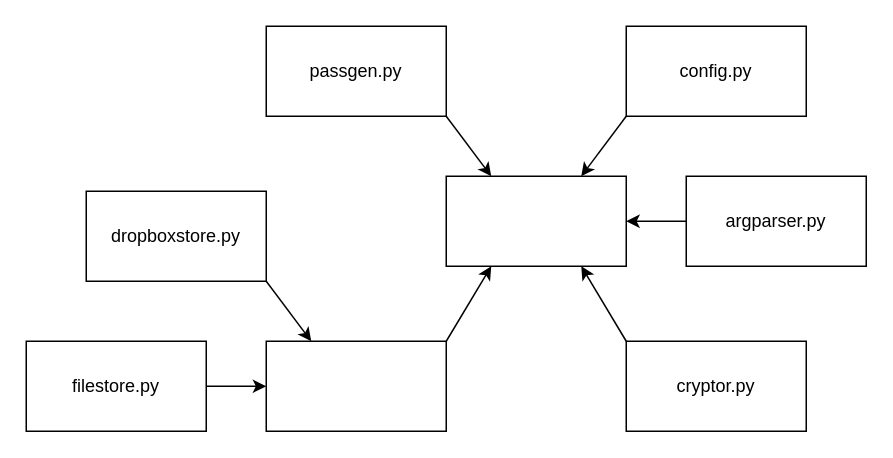
The diagram is 893 pixels wide and 458 high, and some of its shapes have lost their labels. Each missing label, with the centre of its shape:
main.py: point (535, 220)
storage.py: point (355, 385)
